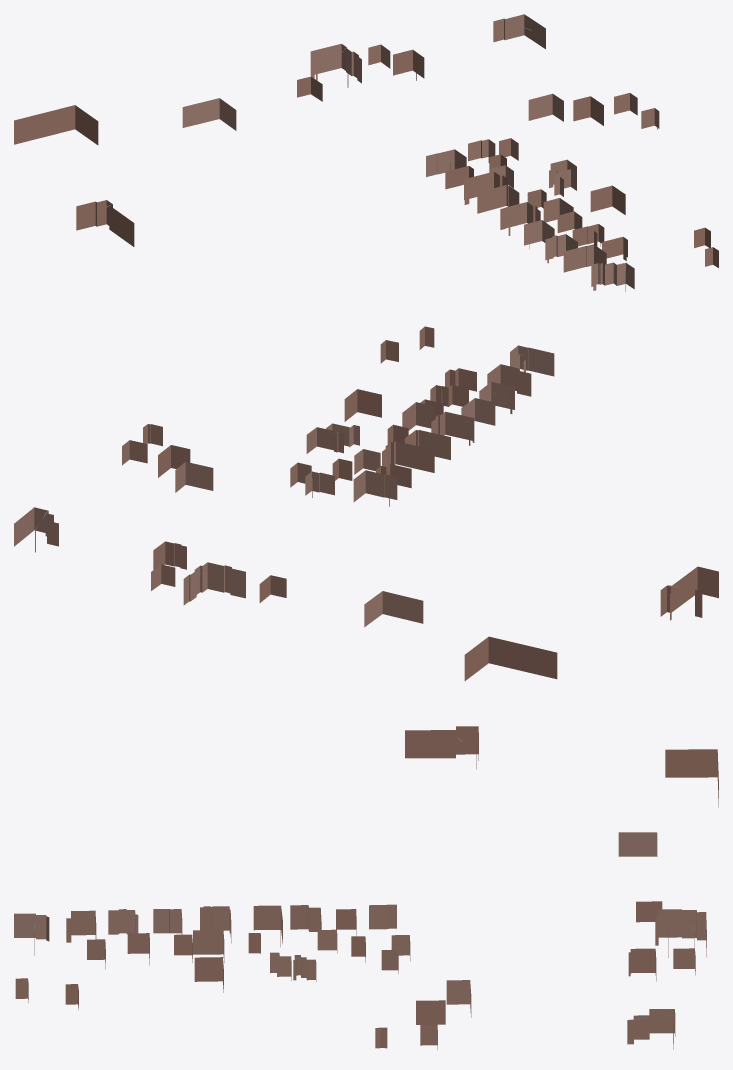
The model's file is c_1636_17837_buildings_residential.glb.
3 views of the same model, one above another, from view 1: azimuth 30°, elevation 25°; view 2: azimuth 150°, elevation 25°; view 3: azimuth 270°, elevation 25° (orthographic). The views are drawn at different scales.
Visible parts, largest first — view 1: geometry_0; view 2: geometry_0; view 3: geometry_0.
Boxes of the visible parts, x1,y1,x2,y2 form: geometry_0: [14, 14, 718, 291]; geometry_0: [14, 326, 718, 680]; geometry_0: [14, 726, 718, 1049].
Bounding box in the file's own units: 255 × 11.83 × 250.
